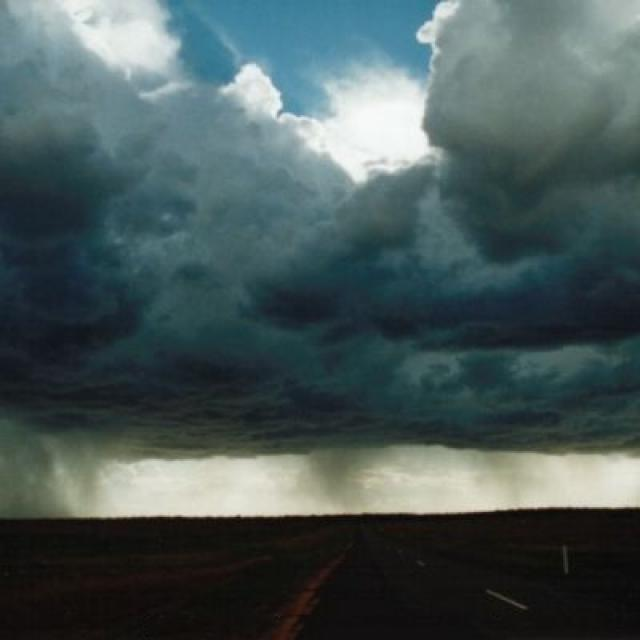Cb: (16, 4, 640, 478)
